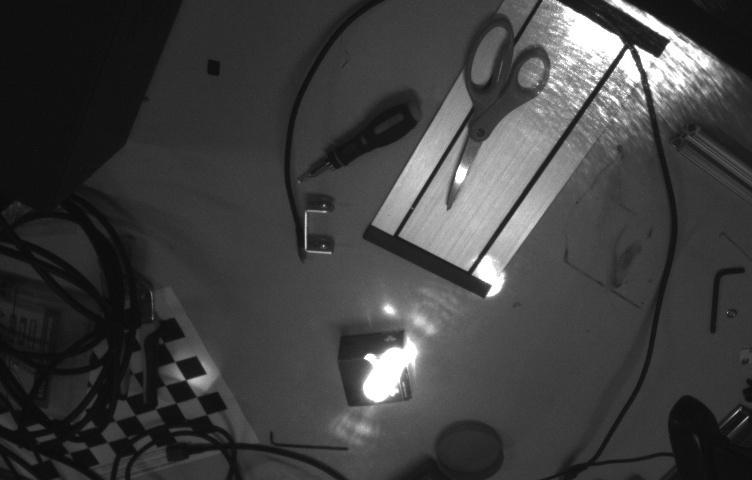Object screw packaging box - Material cardboard - Pdfname VgpKnmoKJfrS: (353, 334, 424, 400)
